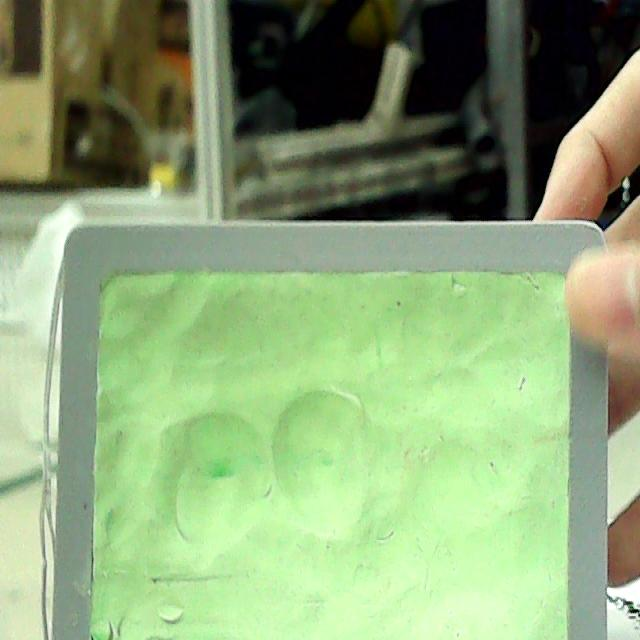block: (52, 205, 624, 640)
